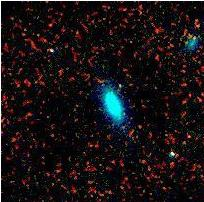star: (104, 72, 134, 102)
